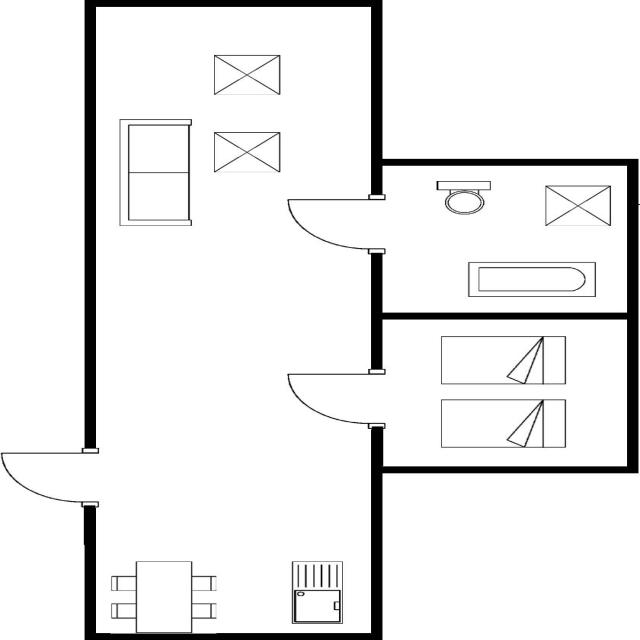bed: (435, 332, 571, 388), (435, 394, 571, 450)
coffee_table: (205, 48, 289, 100), (208, 128, 289, 176), (538, 183, 618, 229)
dining_table: (104, 556, 226, 635)
large_sink: (430, 178, 495, 217)
large_sofa: (110, 114, 198, 230)
sink: (281, 558, 348, 627)
tub: (462, 258, 605, 300)
